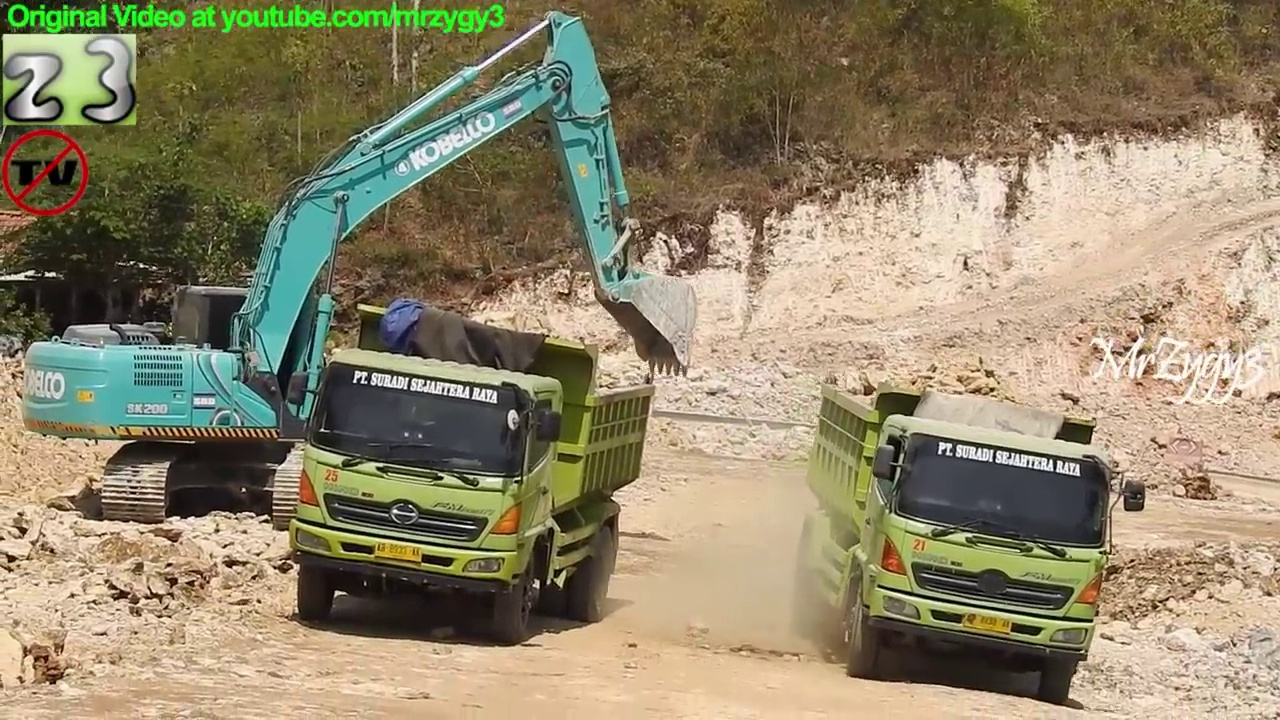excavator: (13, 7, 706, 543)
truck: (282, 295, 662, 651), (785, 371, 1153, 710)
